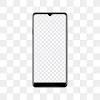Smartphone: (30, 13, 66, 89)
